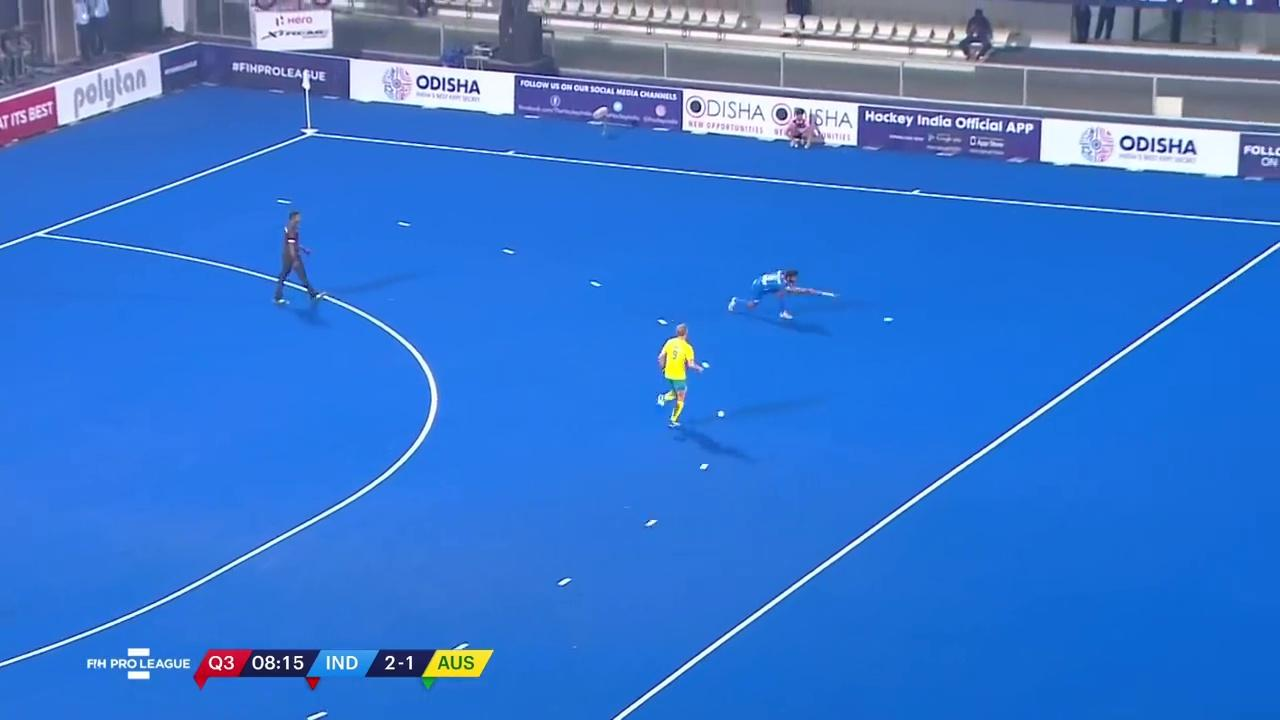ball: (879, 312, 898, 325)
